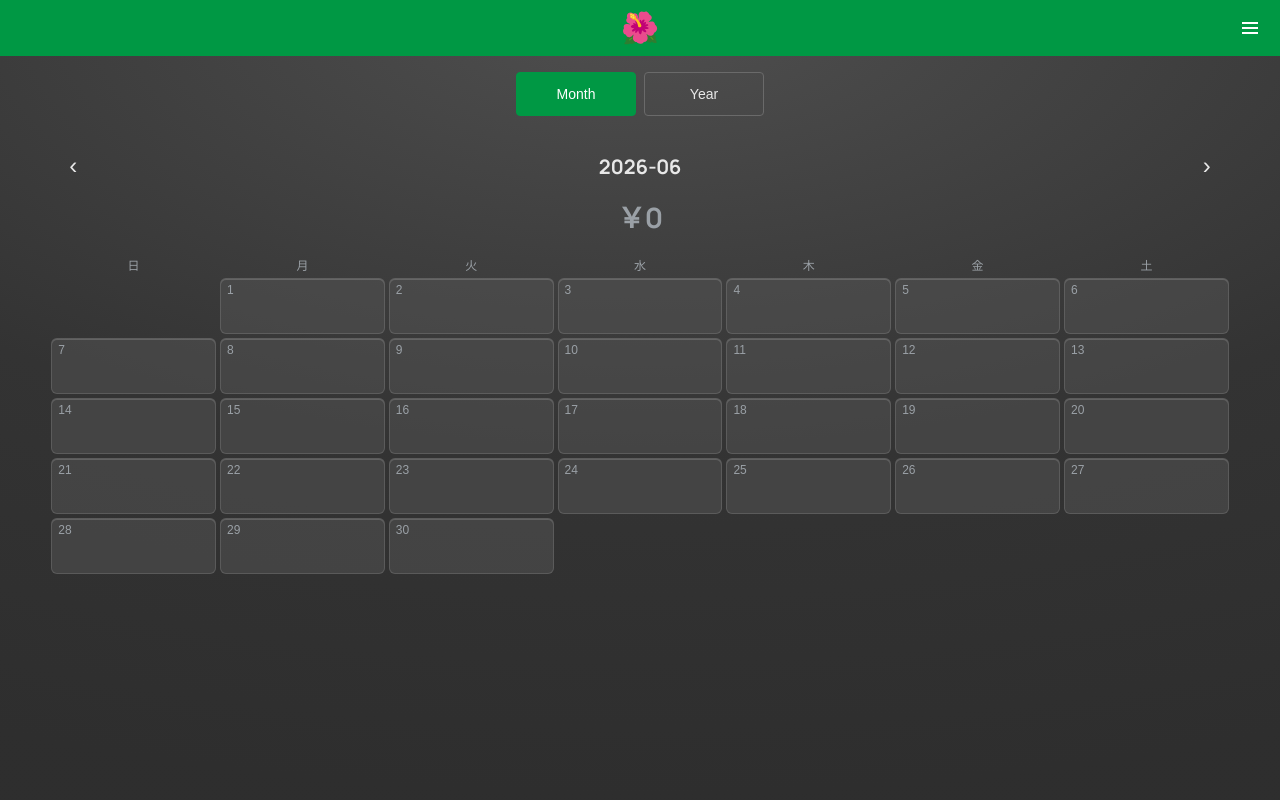
Test: 年ビュー › 当年の年別総収支と、1月から12月までの12行の月別合計が表示される
The width and height of the screenshot is (1280, 800).
Click the button with aria-label "年表示" at (704, 94), box x1=644 y1=72 x2=764 y2=116
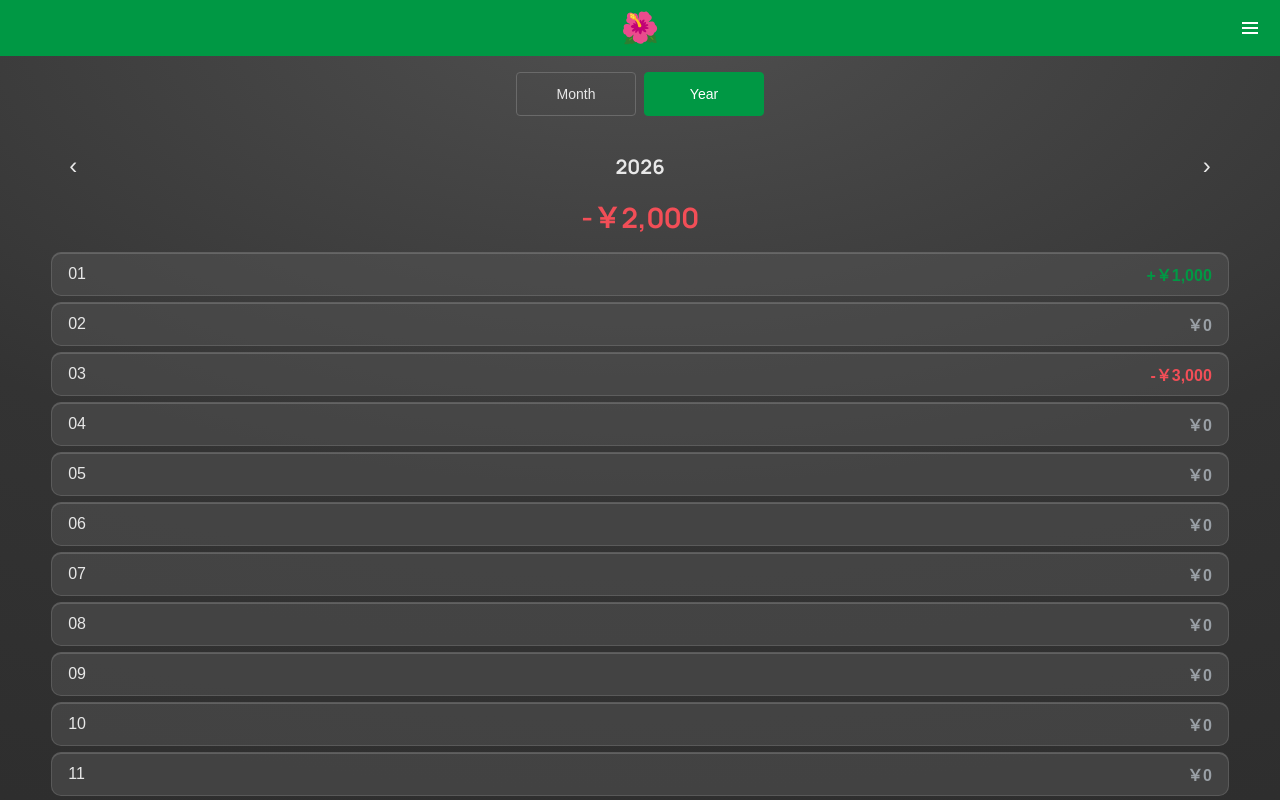
Now the text "-￥2,000" is shown, box x1=581 y1=198 x2=699 y2=236
